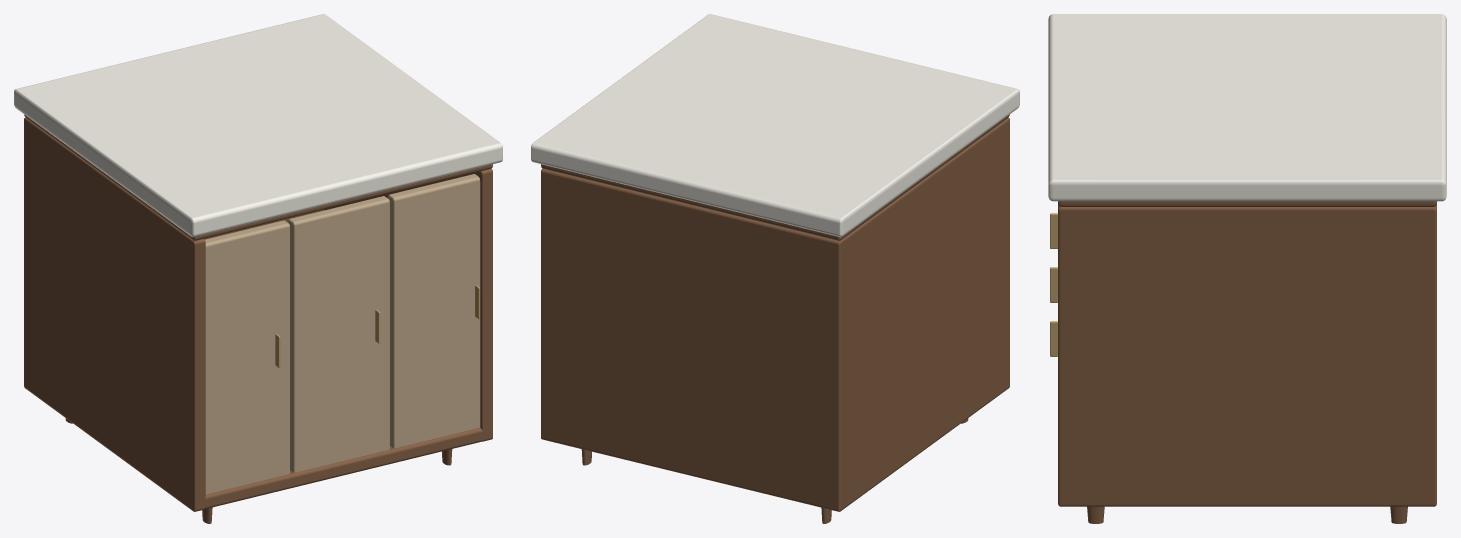
The model's file is cabinet-19-0.glb.
3 views of the same model, side by side, from view 1: azimuth 30°, elevation 25°; view 2: azimuth 150°, elevation 25°; view 3: azimuth 270°, elevation 25° (orthographic). The views are drawn at different scales.
Parts seen in each view (by area): view 1: upholstery (×2), worktop, part; view 2: part, worktop; view 3: part, worktop, upholstery.
Boxes of the visible parts, box(x1,y1,x2,y2) form: upholstery (×2): box(205, 174, 480, 494); worktop: box(14, 14, 502, 237); part: box(24, 114, 492, 523); part: box(541, 114, 1009, 523); worktop: box(531, 14, 1019, 237); part: box(1058, 201, 1436, 523); worktop: box(1048, 14, 1446, 201); upholstery: box(1050, 213, 1057, 356).
Bounding box in the file's own units: 1 × 1 × 1.
